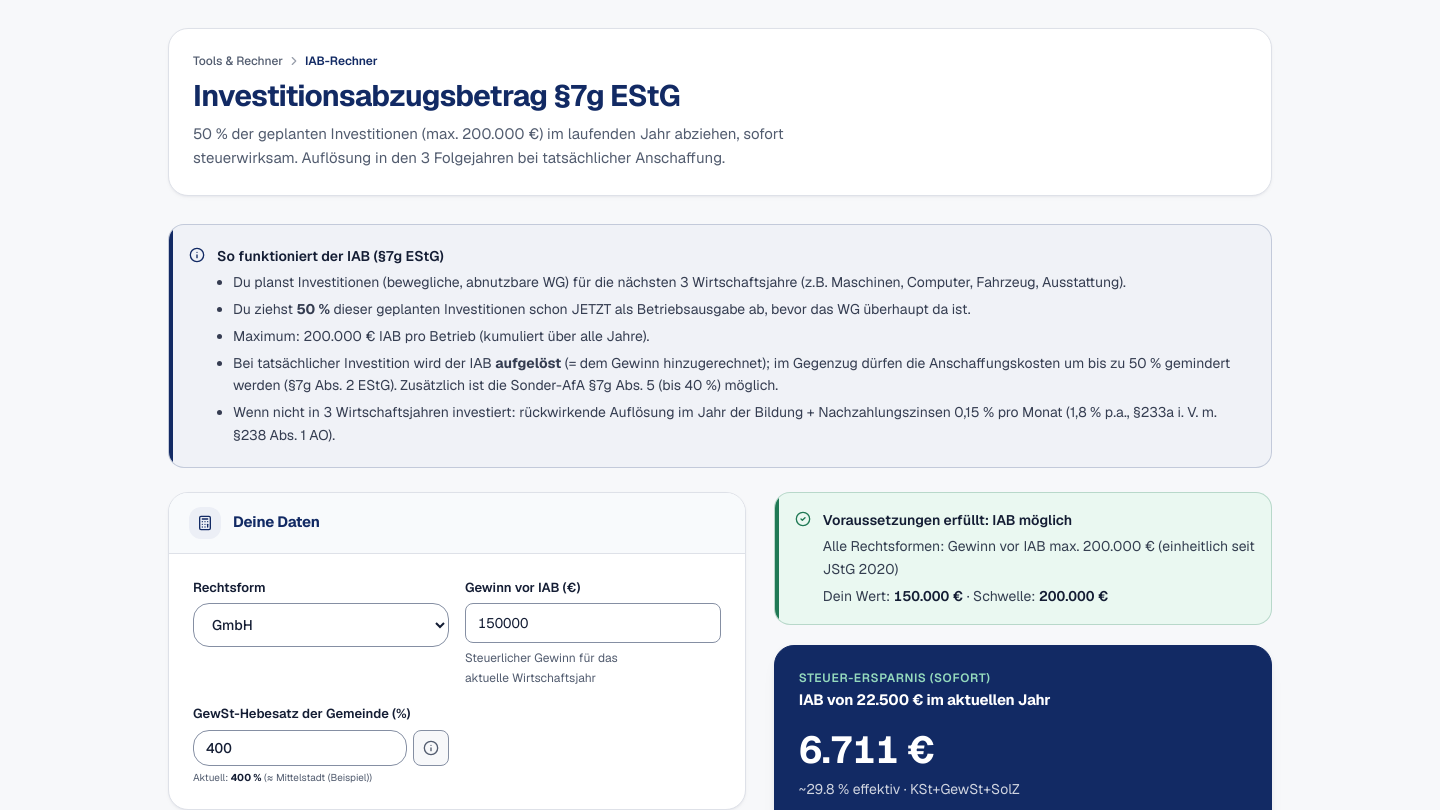
Test case: IabRechner: andere Einkünfte erhöhen das zvE › Freiberufler, 40.000 € Gewinn + 60.000 € Lohn, IAB 22.500 € → Ersparnis 10.575 €
Select "Freiberufler" in the dropdown with id "iab-rf": {"x": 321, "y": 625} left=193, top=603, right=449, bottom=647
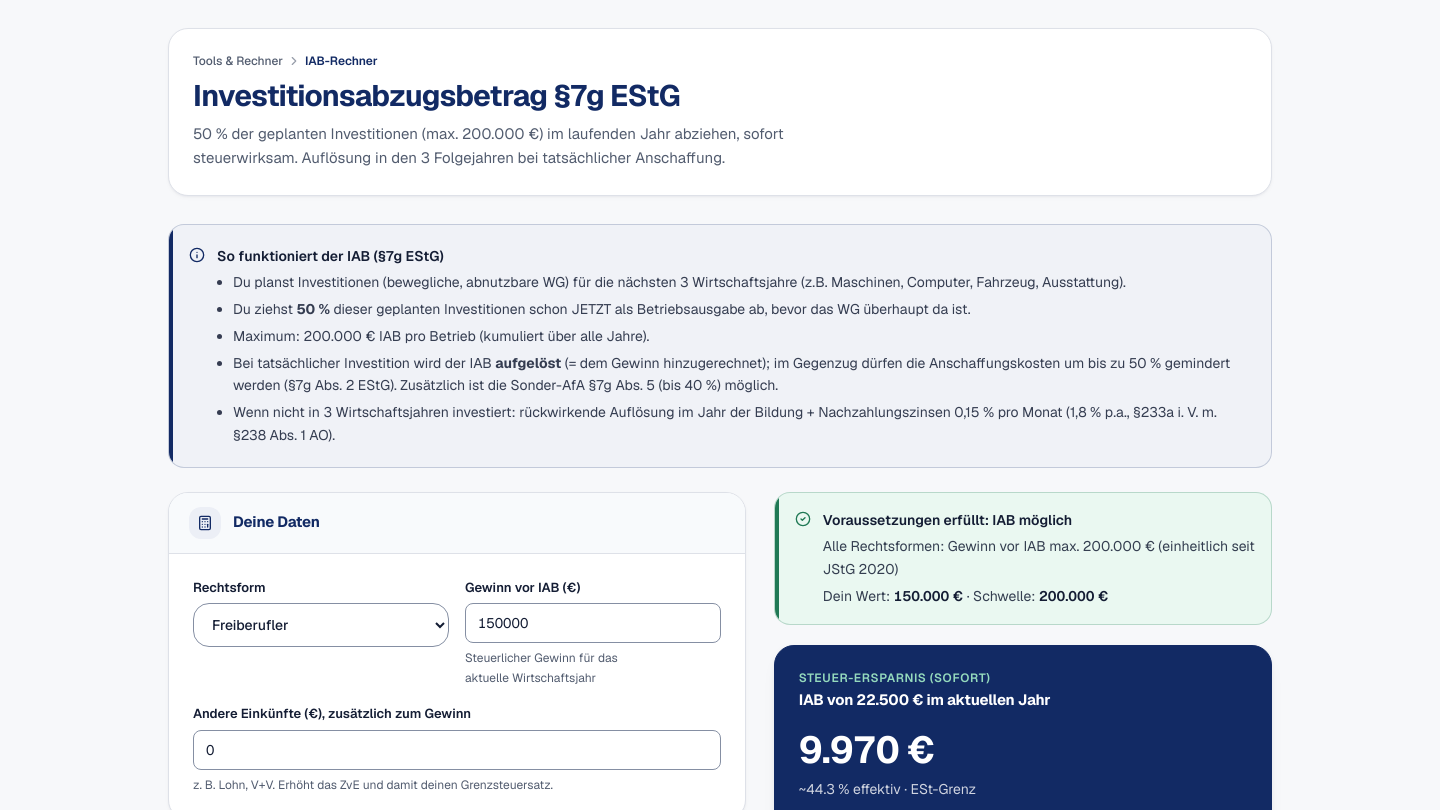
Replace the text in the number field with id "iab-gewinn" with "40000": {"x": 593, "y": 623} left=465, top=603, right=721, bottom=643
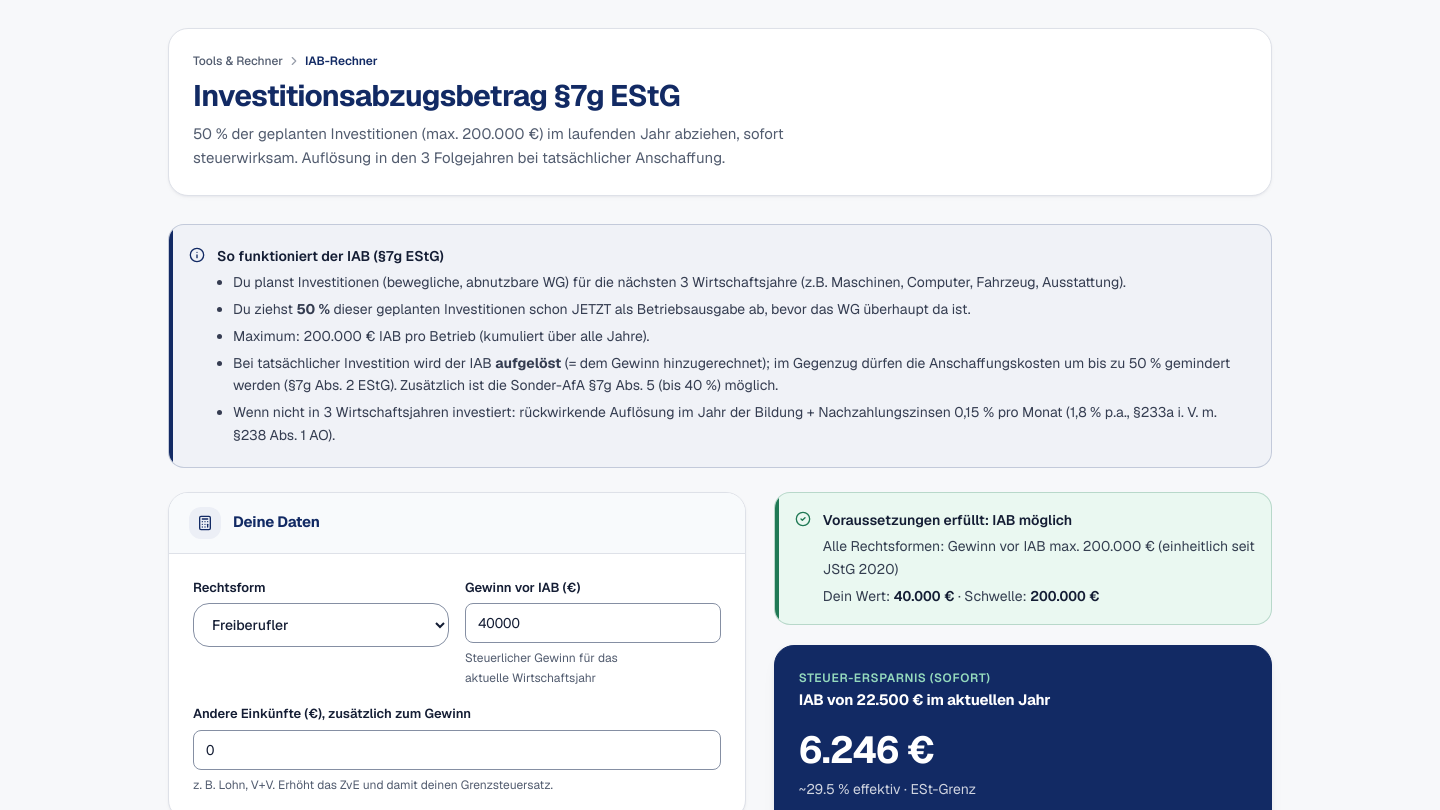
Replace the text in the number field with id "iab-andere" with "60000": {"x": 457, "y": 750} left=193, top=730, right=721, bottom=770
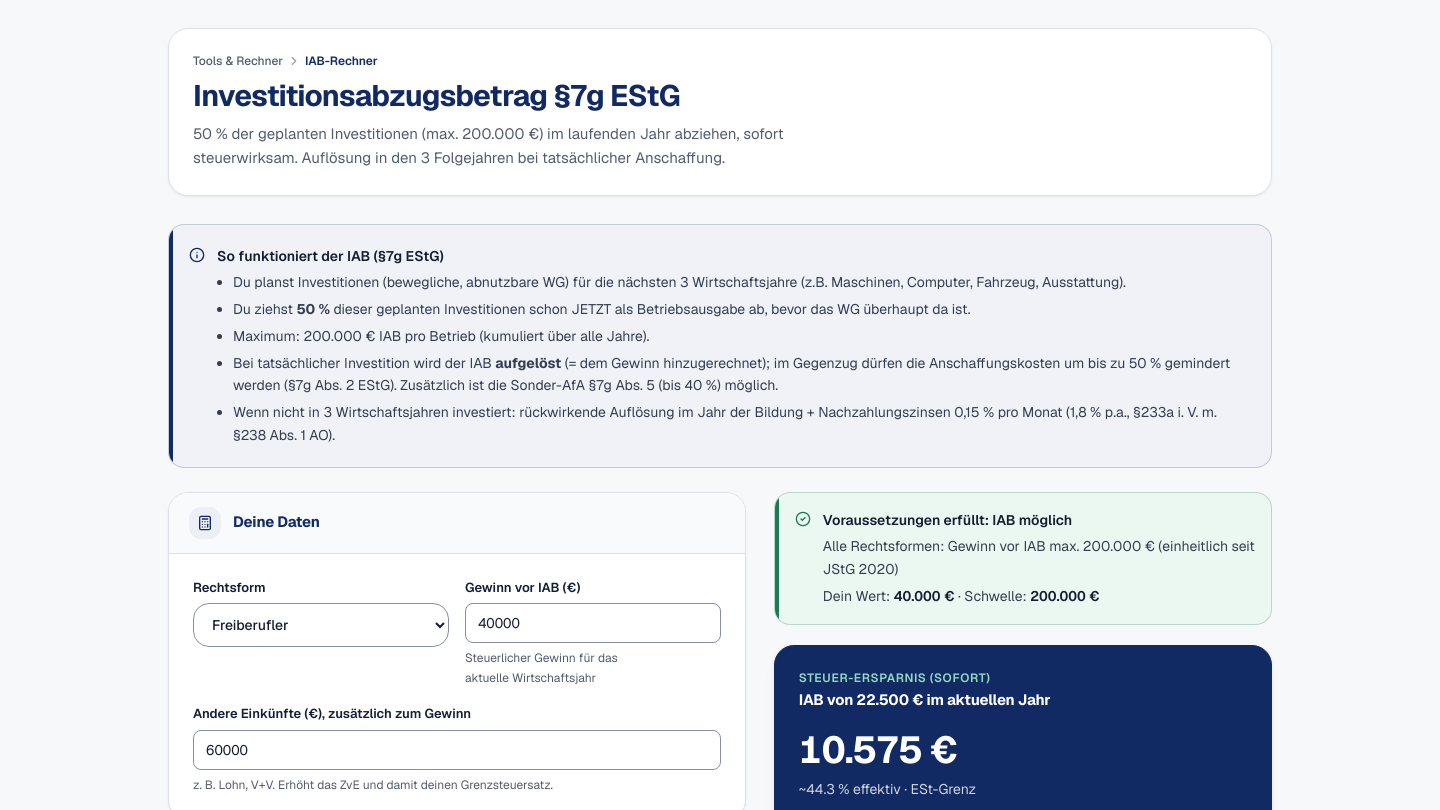
Check: the text "10.575 €" is shown, box left=799, top=725, right=957, bottom=774
